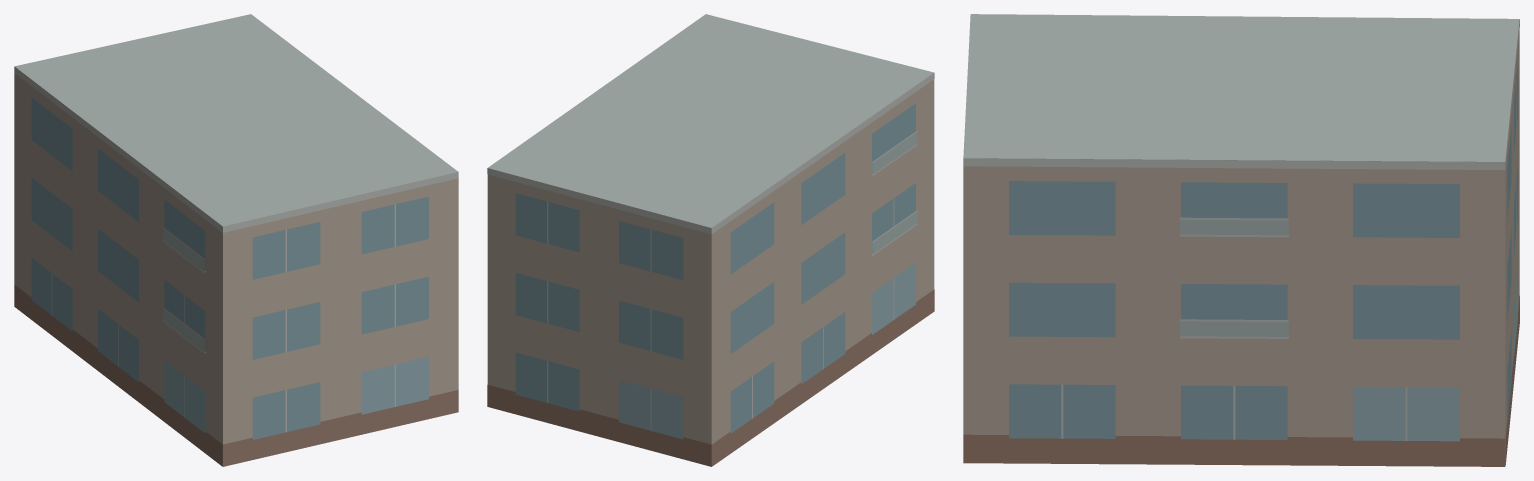
Rendered from survey-upis-32687663.glb.
3 renders of one model, left to right at view 1: azimuth 30°, elevation 25°; view 2: azimuth 150°, elevation 25°; view 3: azimuth 270°, elevation 25°, orthographic. The views are drawn at different scales.
Visible parts, largest first — view 1: survey-upis-32687663.tmp; view 2: survey-upis-32687663.tmp; view 3: survey-upis-32687663.tmp.
Boxes of the visible parts, x1,y1,x2,y2 form: survey-upis-32687663.tmp: [14, 14, 458, 466]; survey-upis-32687663.tmp: [487, 14, 934, 466]; survey-upis-32687663.tmp: [963, 14, 1519, 466].
Bounding box in the file's own units: 9.54 × 9.15 × 15.14.
